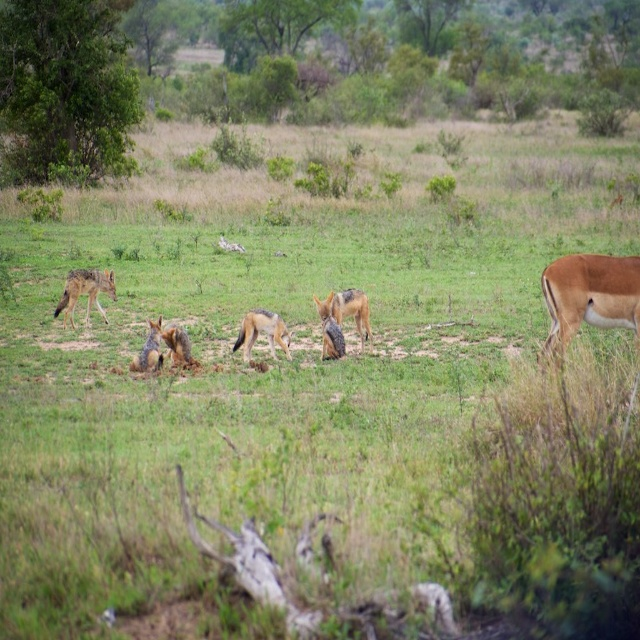Deer: (536, 256, 639, 375)
